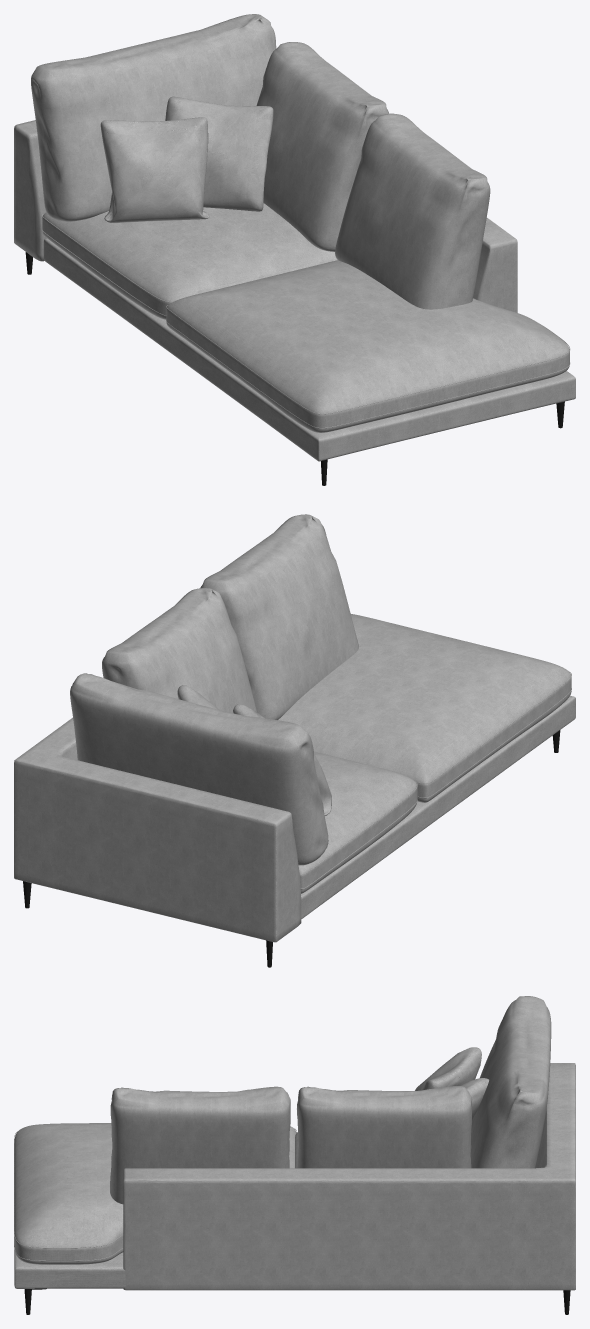
The model's file is meridien.glb.
3 views of the same model, one above another, from view 1: azimuth 30°, elevation 25°; view 2: azimuth 150°, elevation 25°; view 3: azimuth 270°, elevation 25° (orthographic). The views are drawn at different scales.
Visible parts, largest first — view 1: almofada costa 2 (×3), Almofada de assento#4, Almofada de assento#3, estrutura, ALMOFADA DECO#1, ALMOFADA DECO#2, object 12; view 2: almofada costa 2 (×3), object 12, Almofada de assento#4, Almofada de assento#3, estrutura, ALMOFADA DECO#1; view 3: object 12, almofada costa 2 (×3), Almofada de assento#4, estrutura, ALMOFADA DECO#1, ALMOFADA DECO#2.
Boxes of the visible parts, bbox=[...] form: almofada costa 2 (×3): bbox=[31, 14, 490, 309]; Almofada de assento#4: bbox=[166, 260, 569, 432]; Almofada de assento#3: bbox=[42, 203, 337, 319]; estrutura: bbox=[43, 238, 575, 461]; ALMOFADA DECO#1: bbox=[100, 117, 209, 222]; ALMOFADA DECO#2: bbox=[165, 96, 273, 211]; object 12: bbox=[14, 120, 517, 312]; almofada costa 2 (×3): bbox=[70, 514, 358, 865]; object 12: bbox=[14, 717, 301, 942]; Almofada de assento#4: bbox=[278, 614, 571, 802]; Almofada de assento#3: bbox=[298, 751, 417, 893]; estrutura: bbox=[301, 695, 575, 918]; ALMOFADA DECO#1: bbox=[233, 704, 331, 815]; object 12: bbox=[123, 1063, 575, 1290]; almofada costa 2 (×3): bbox=[110, 996, 551, 1204]; Almofada de assento#4: bbox=[14, 1123, 296, 1264]; estrutura: bbox=[14, 1249, 125, 1288]; ALMOFADA DECO#1: bbox=[415, 1047, 481, 1090]; ALMOFADA DECO#2: bbox=[461, 1078, 489, 1120].
Size of the model in its own units: 1.15 by 0.9161 by 2.25.
2 materials, 1 textured.
